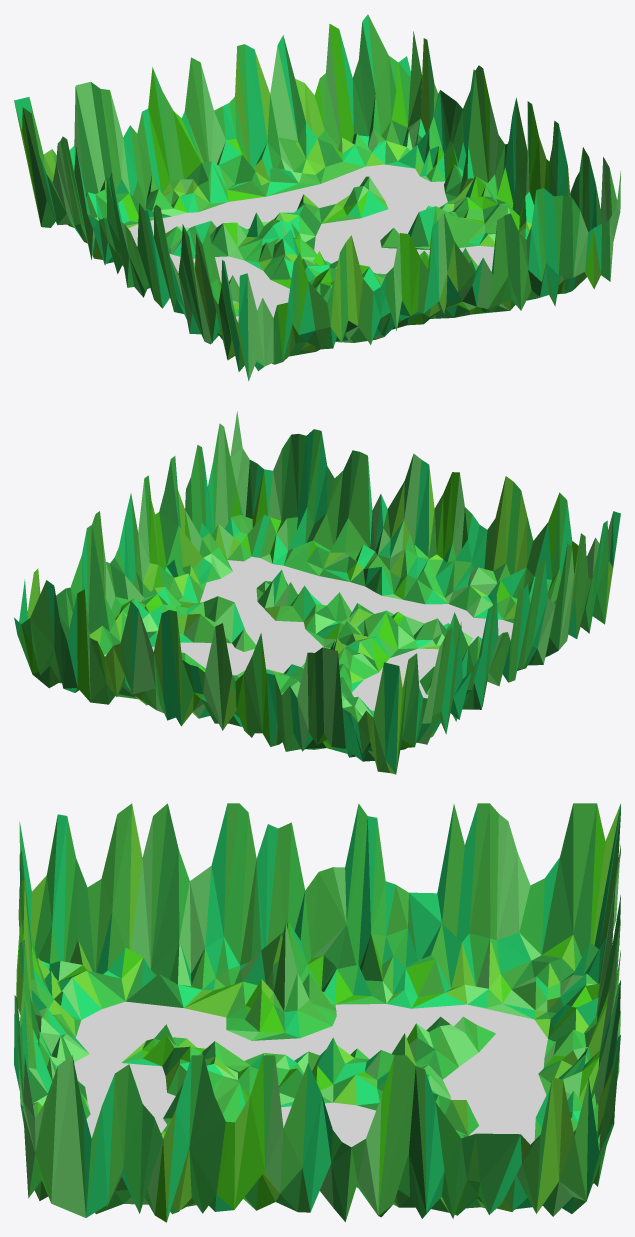
Rendered from map_tiny_mountain.dae.
The picture shows the model from 3 angles, top to bottom: view 1: azimuth 30°, elevation 25°; view 2: azimuth 150°, elevation 25°; view 3: azimuth 270°, elevation 25°; orthographic projection. The views are drawn at different scales.
Visible parts, largest first — view 1: Grid; view 2: Grid; view 3: Grid.
Boxes of the visible parts, <box> form: Grid: <box>14,14,620,381</box>; Grid: <box>14,411,620,774</box>; Grid: <box>14,803,620,1222</box>.
Bounding box in the file's own units: 30.52 × 30.54 × 9.44.
